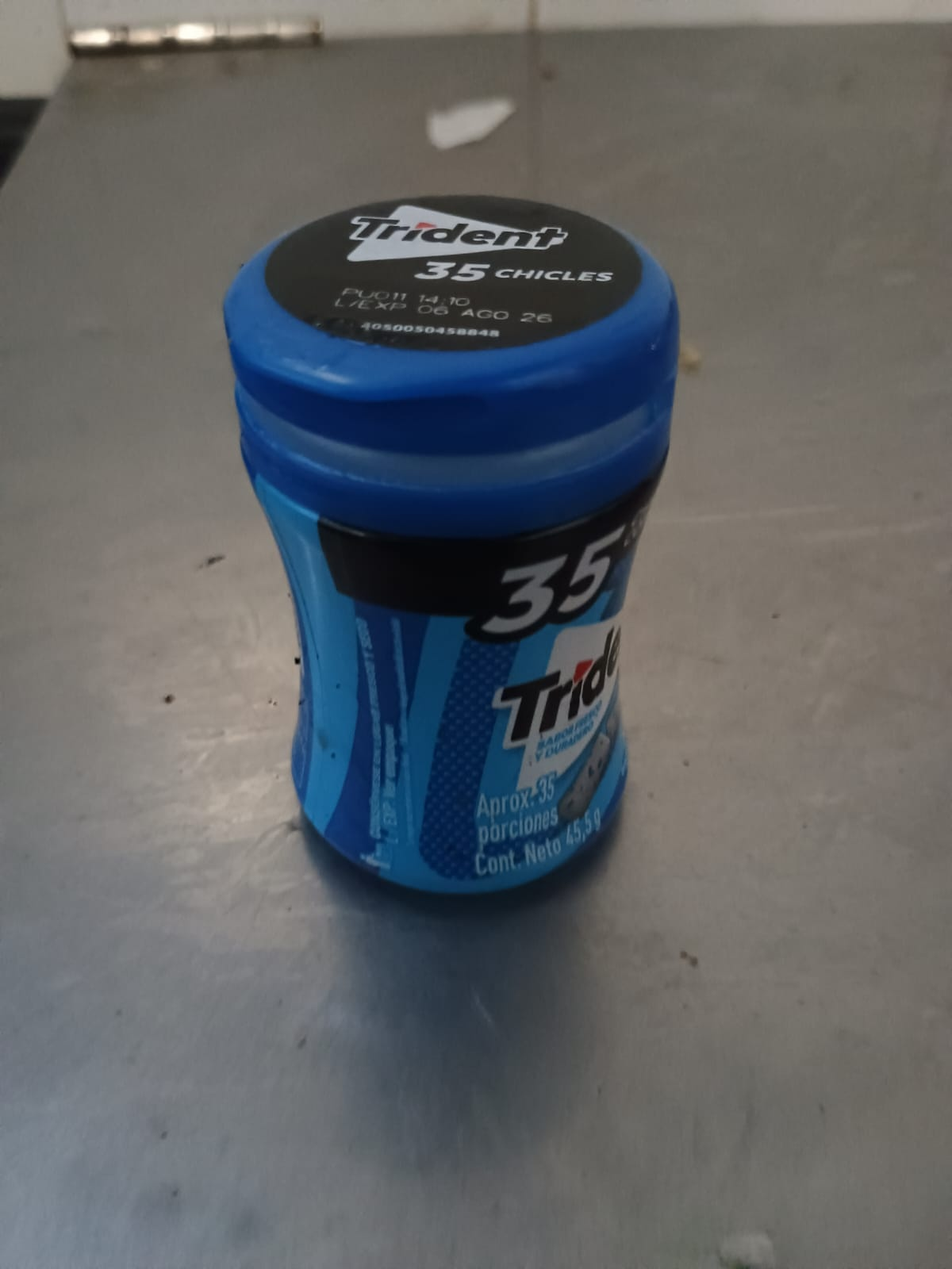Plastico: (221, 193, 680, 894)
